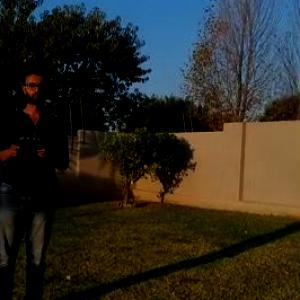follow: (0, 61, 76, 299)
